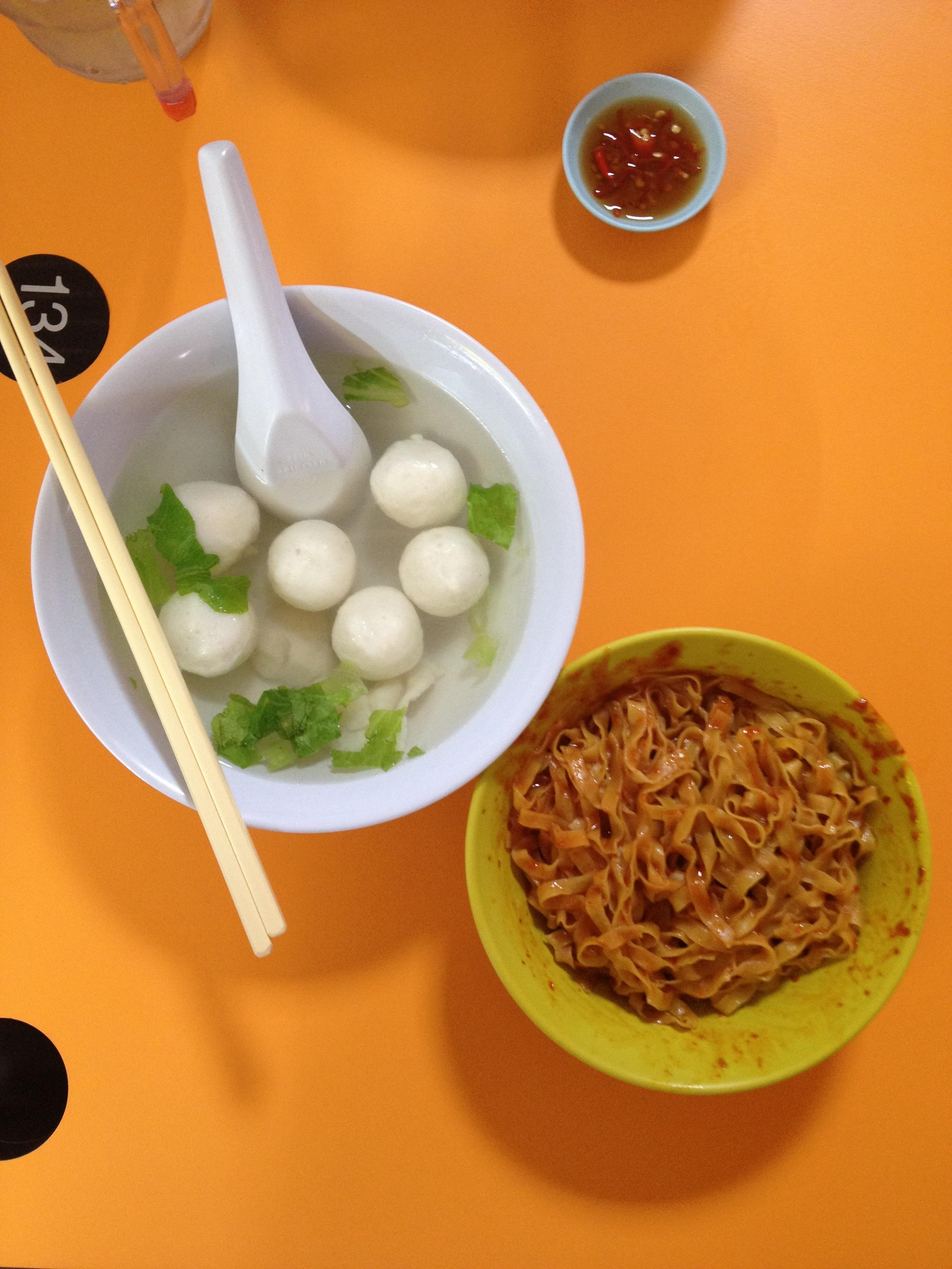Braised Crucian Carp: (26, 290, 575, 818), (460, 631, 904, 1092)
